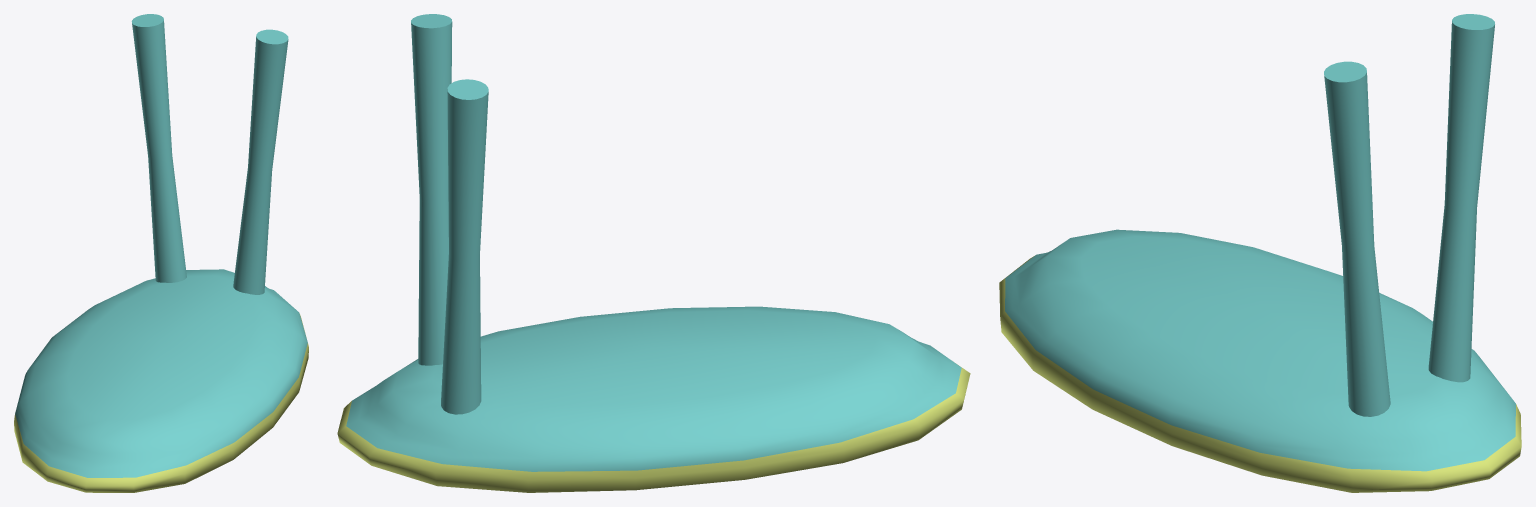
The model's file is cylinder001_08_-_default_0_lev3.glb.
3 renders of one model, left to right at view 1: azimuth 30°, elevation 25°; view 2: azimuth 150°, elevation 25°; view 3: azimuth 270°, elevation 25°, orthographic. The views are drawn at different scales.
Visible parts, largest first — view 1: cylinder001_08_-_default_0_lev3; view 2: cylinder001_08_-_default_0_lev3; view 3: cylinder001_08_-_default_0_lev3.
Part boxes in pixels (left/top/right/bottom): cylinder001_08_-_default_0_lev3: left=14, top=14, right=308, bottom=492; cylinder001_08_-_default_0_lev3: left=337, top=14, right=970, bottom=492; cylinder001_08_-_default_0_lev3: left=999, top=14, right=1521, bottom=492.
Size of the model in its own units: 3.89 by 3.2 by 3.68.
1 material, 1 textured.
